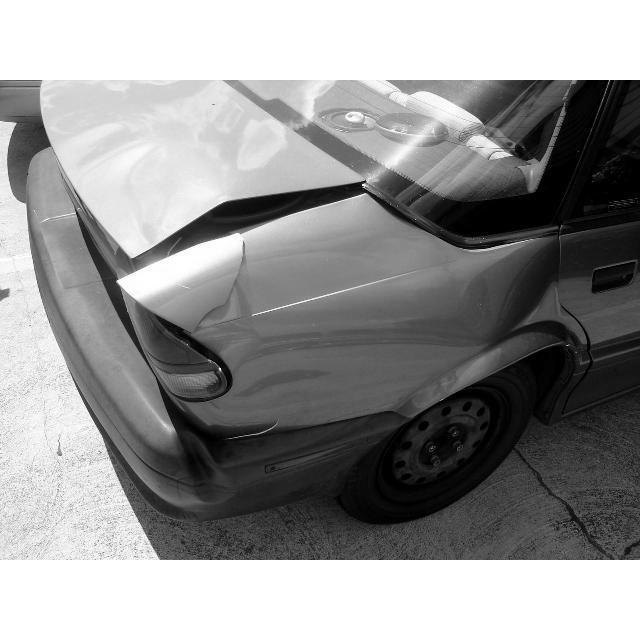boot-dent: (13, 81, 355, 258)
quaterpanel-dent: (146, 252, 568, 406)
